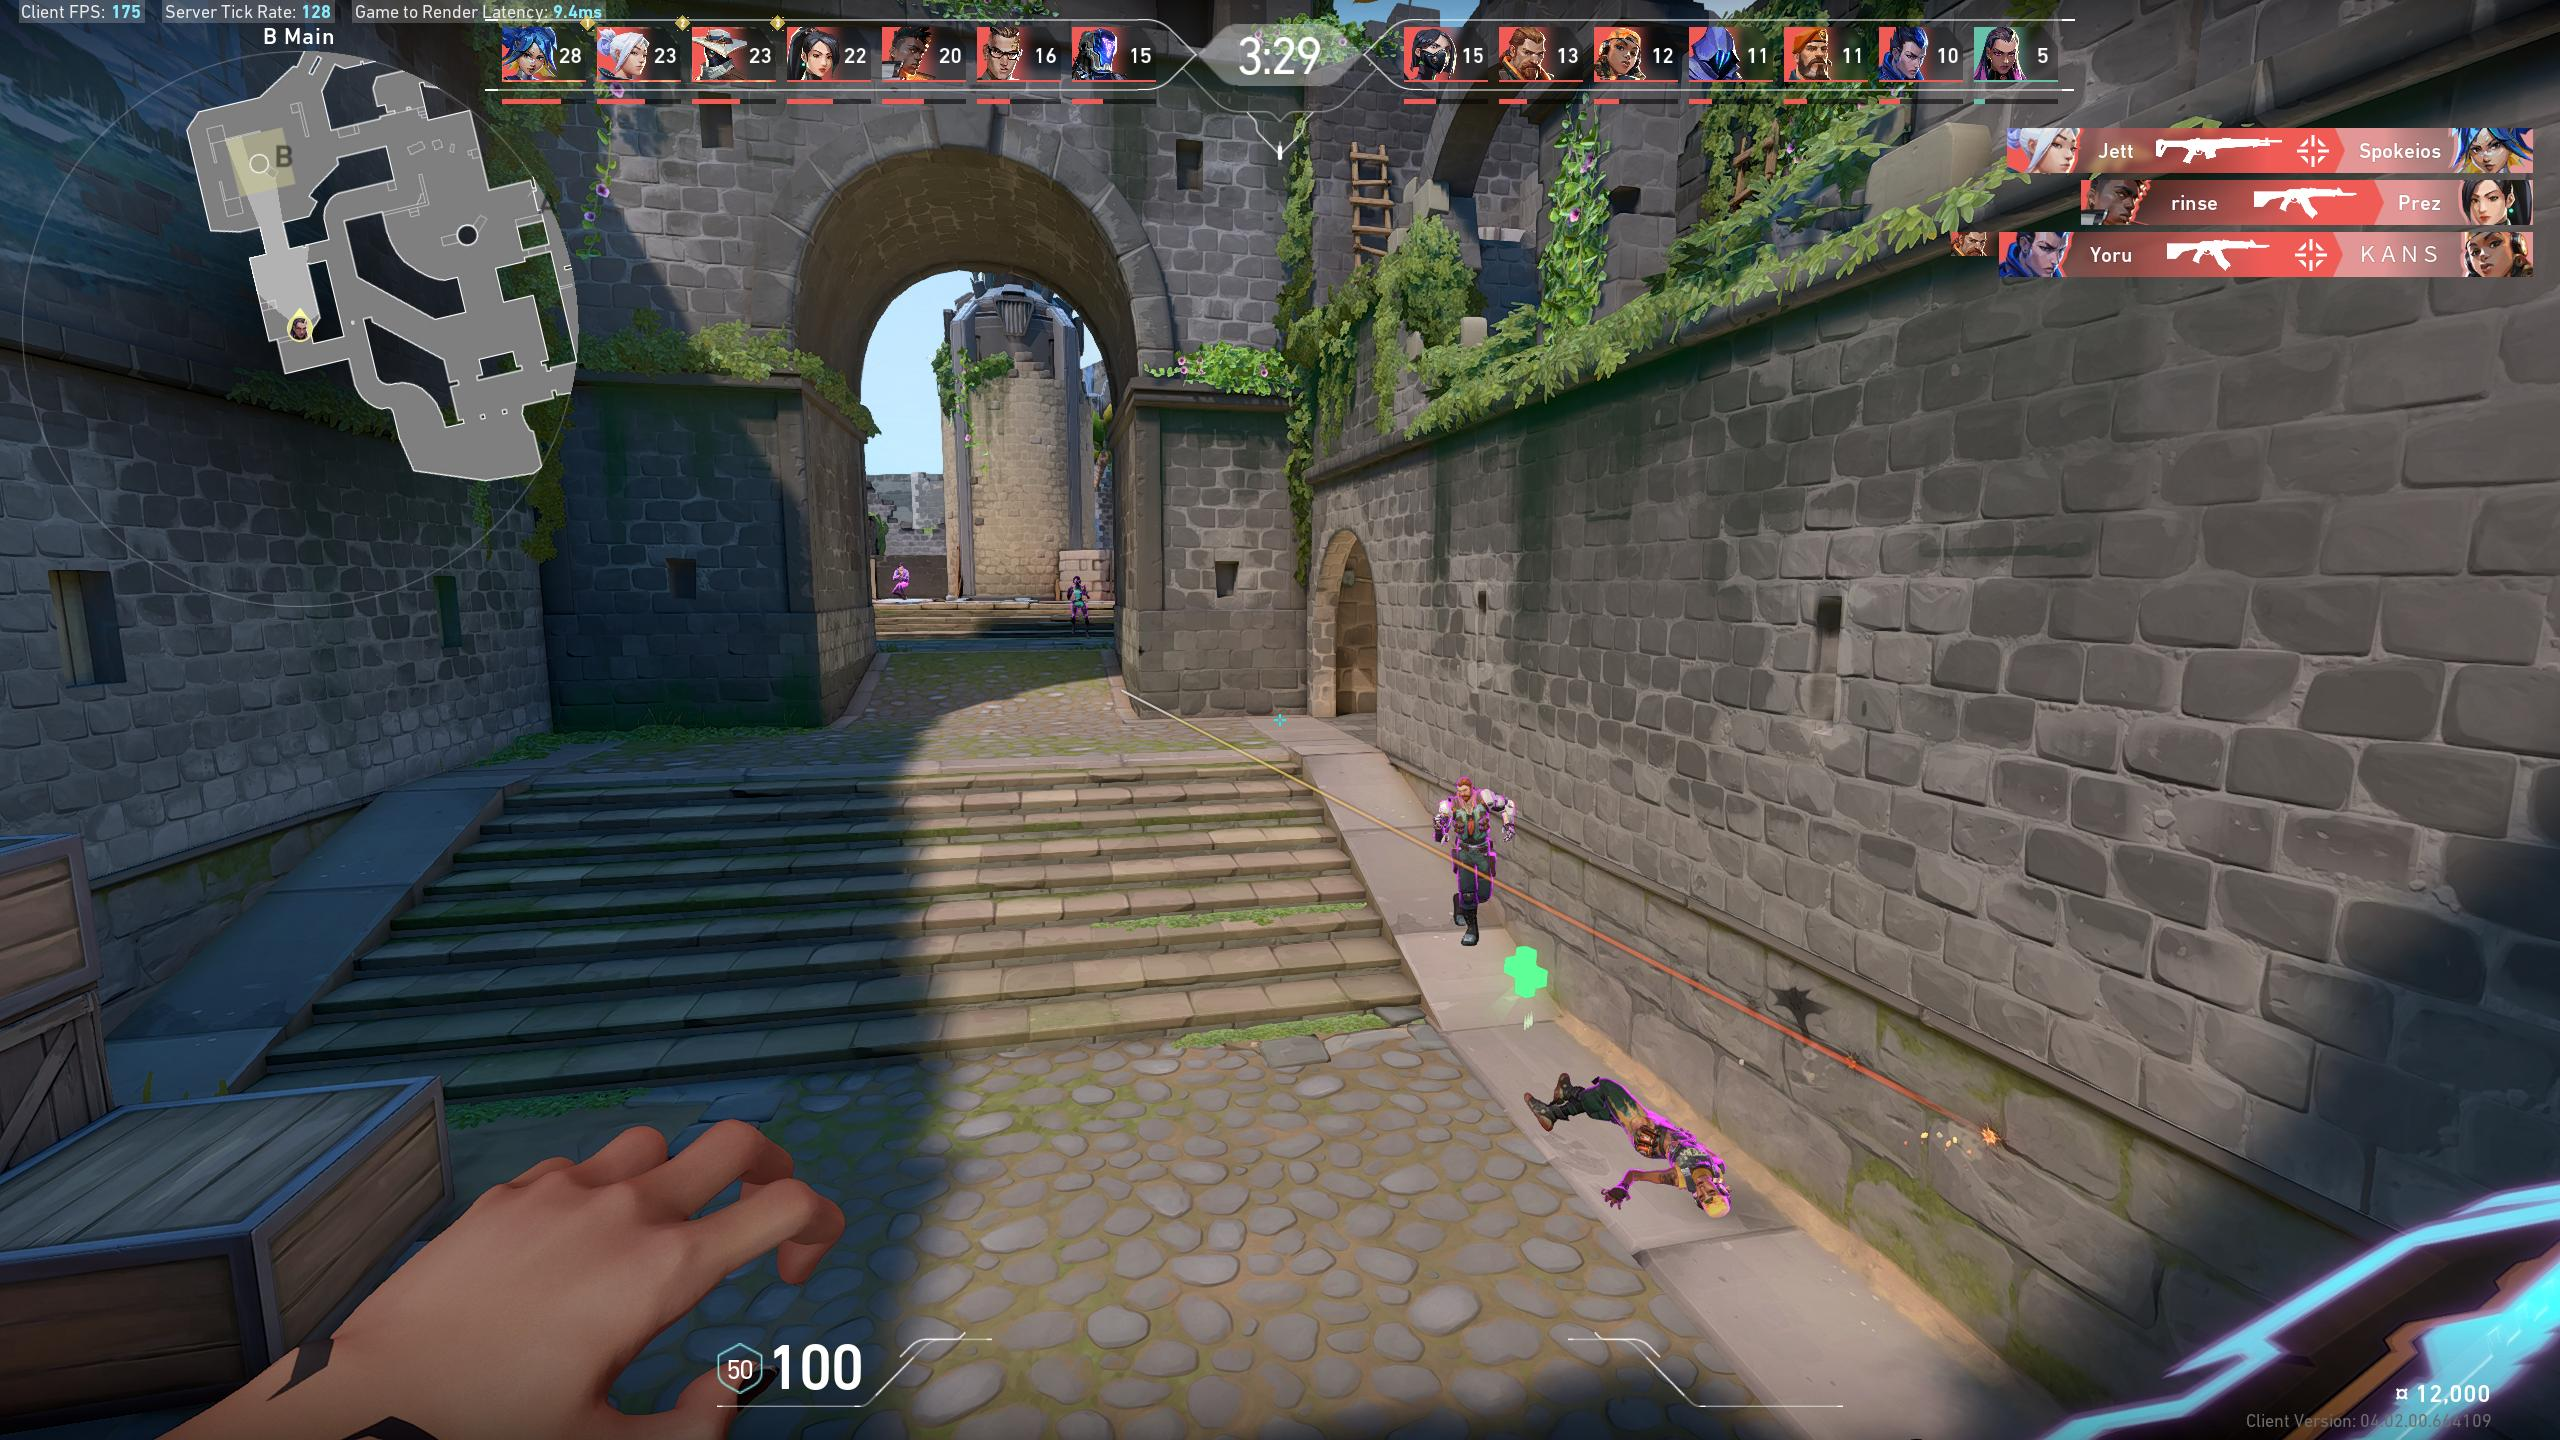enemyBody: (1459, 804, 1484, 846), (898, 573, 907, 584), (1076, 587, 1080, 600)
enemyHead: (1459, 784, 1473, 798), (898, 566, 904, 571), (1074, 578, 1080, 584)
